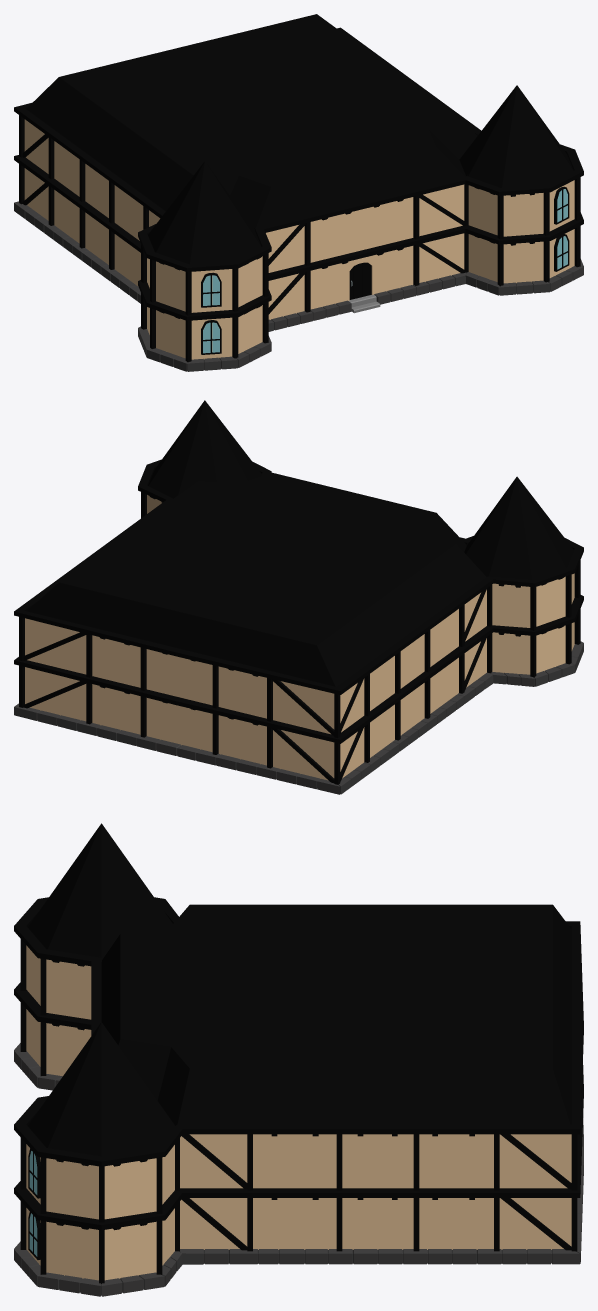
The model's file is Rooms.fbx.
3 renders of one model, top to bottom at view 1: azimuth 30°, elevation 25°; view 2: azimuth 150°, elevation 25°; view 3: azimuth 270°, elevation 25°, orthographic. The views are drawn at different scales.
Visible parts, largest first — view 1: Roof, Walls, Pillars, Stones, Windows, Windows wood; view 2: Roof, Walls, Pillars, Stones; view 3: Roof, Walls, Pillars, Stones, Windows wood.
Boxes of the visible parts, left/top/right/bottom form: Roof: left=26, top=14, right=573, bottom=264; Walls: left=24, top=119, right=574, bottom=359; Pillars: left=14, top=27, right=583, bottom=362; Stones: left=14, top=201, right=583, bottom=371; Windows: left=203, top=189, right=567, bottom=353; Windows wood: left=201, top=186, right=569, bottom=354; Roof: left=27, top=400, right=573, bottom=686; Walls: left=25, top=495, right=574, bottom=780; Pillars: left=14, top=459, right=583, bottom=784; Stones: left=14, top=641, right=583, bottom=794; Roof: left=28, top=823, right=571, bottom=1156; Walls: left=26, top=945, right=571, bottom=1280; Pillars: left=14, top=897, right=583, bottom=1283; Stones: left=14, top=1043, right=583, bottom=1296; Windows wood: left=28, top=1148, right=40, bottom=1259.
Bounding box in the file's own units: 3906 × 1590 × 3451.
